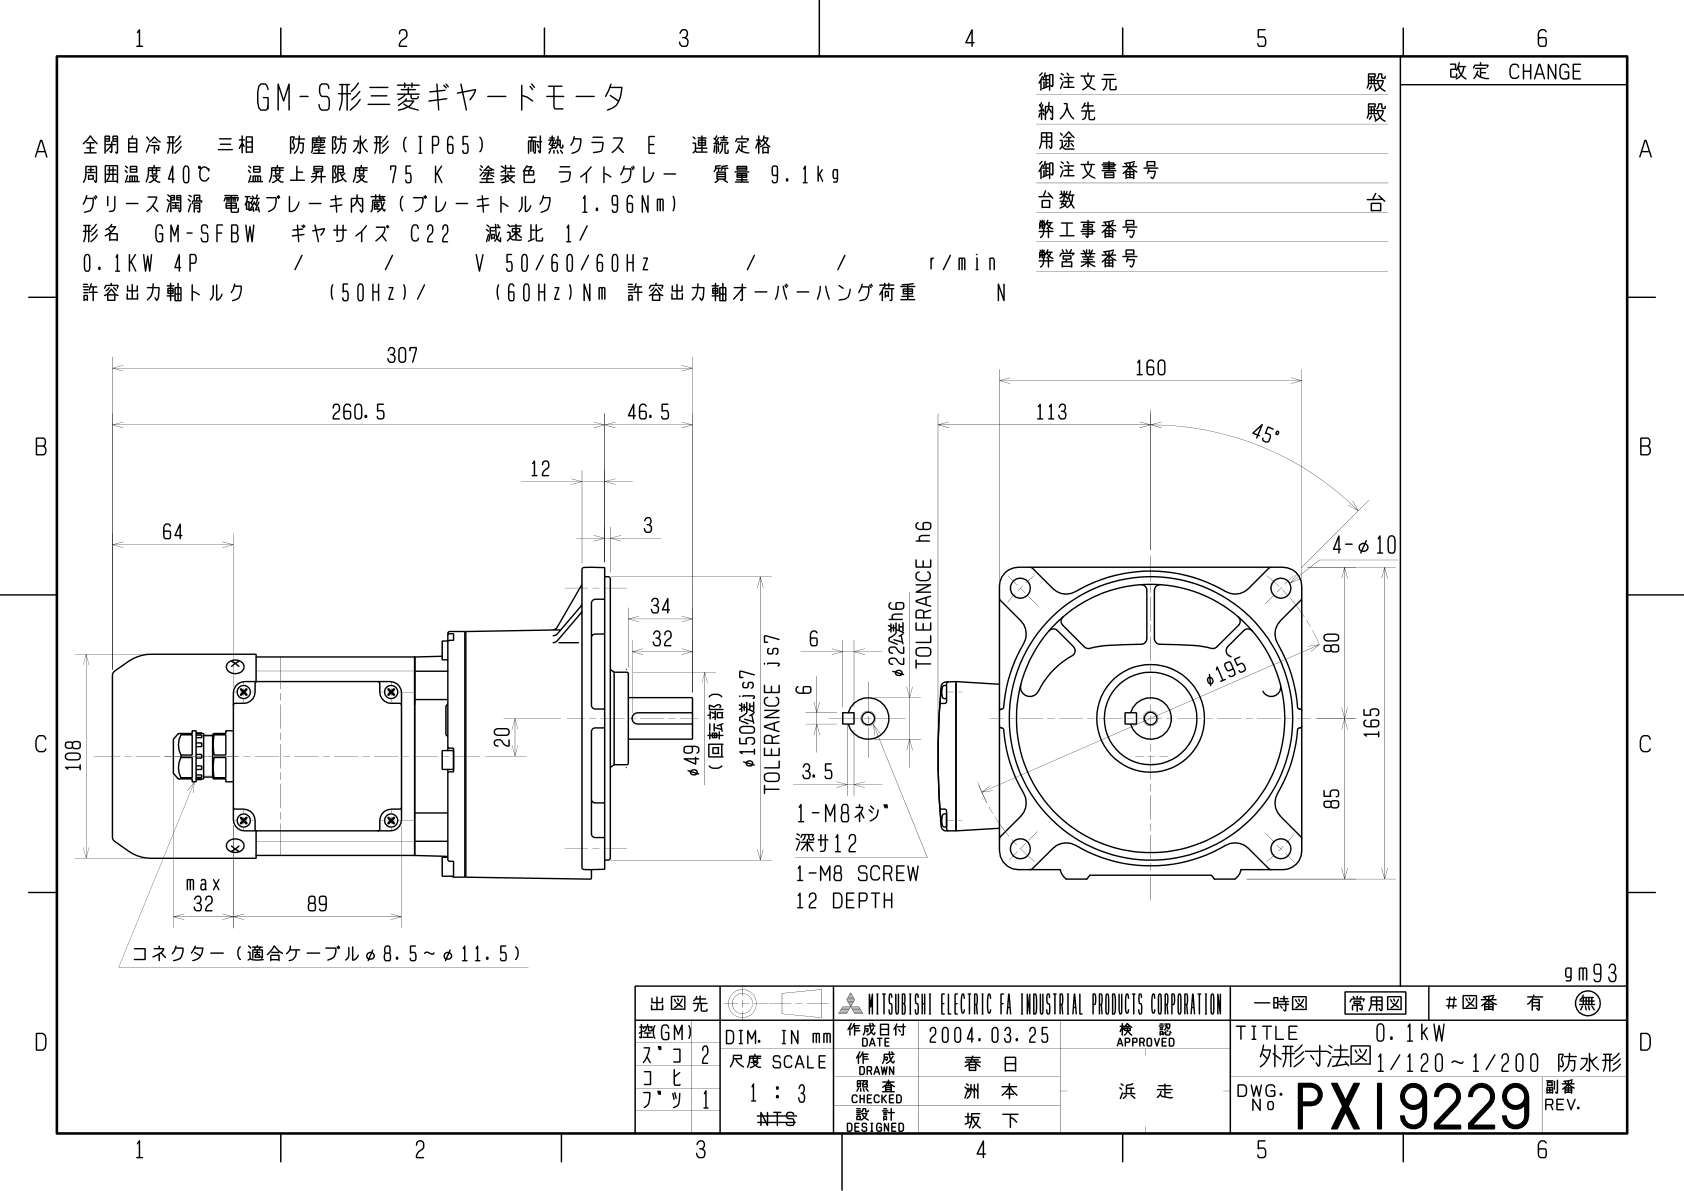GM_S_IP65＿三相_フランジ: (63, 308, 1403, 974)
